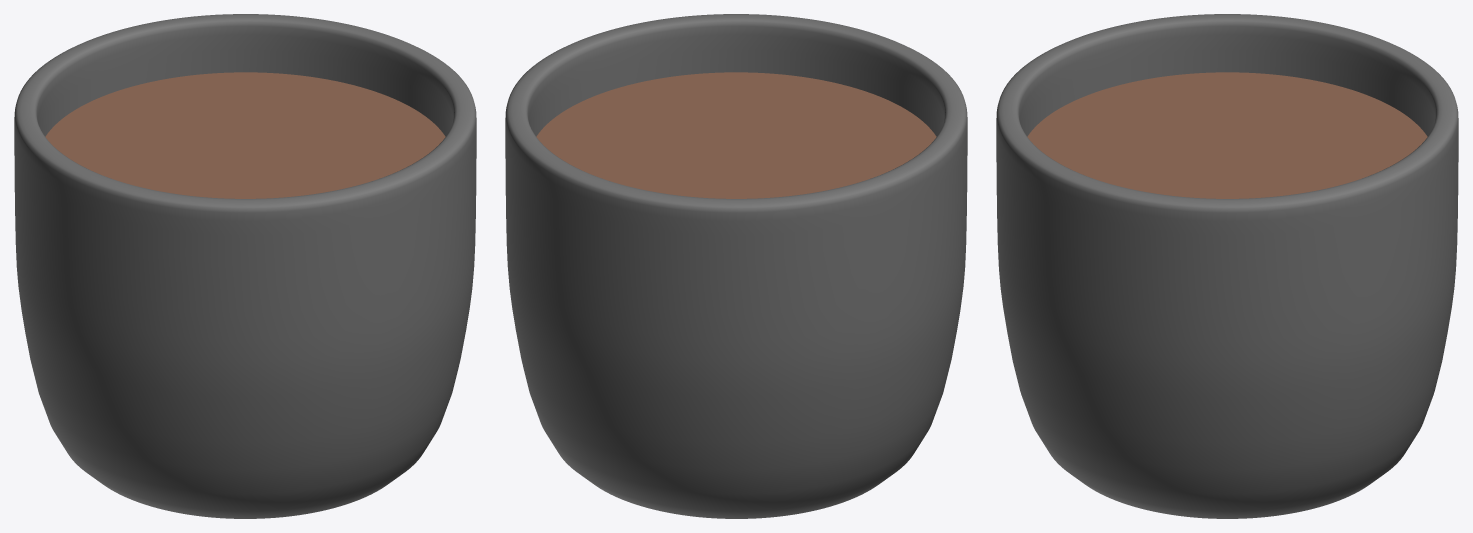
Rendered from basic_grey.glb.
The picture shows the model from 3 angles, left to right: view 1: azimuth 30°, elevation 25°; view 2: azimuth 150°, elevation 25°; view 3: azimuth 270°, elevation 25°; orthographic projection.
Parts seen in each view (by area): view 1: Circle.002, Circle.001; view 2: Circle.002, Circle.001; view 3: Circle.002, Circle.001.
Boxes of the visible parts, left/top/right/bottom form: Circle.002: left=14, top=14, right=476, bottom=518; Circle.001: left=45, top=72, right=445, bottom=198; Circle.002: left=505, top=14, right=967, bottom=518; Circle.001: left=536, top=72, right=936, bottom=198; Circle.002: left=996, top=14, right=1458, bottom=518; Circle.001: left=1027, top=72, right=1427, bottom=198.
Size of the model in its own units: 11.86 by 10.04 by 11.86.
